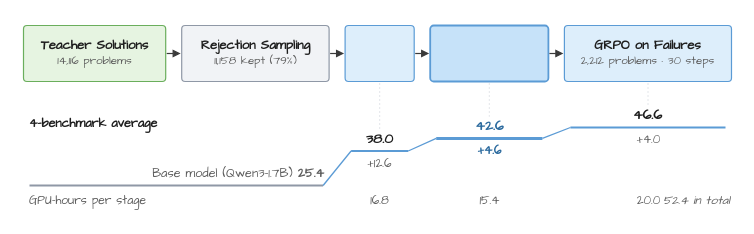
This 754x234 diagram has some shape labels left out. The shapes that lost their labels are listed below. From the top down, each one's centre as x and y in pixels, then its label:
At pixel 379 53: "SFT 1 epoch".
At pixel 489 53: "Scaffold-OPD 40 steps".
